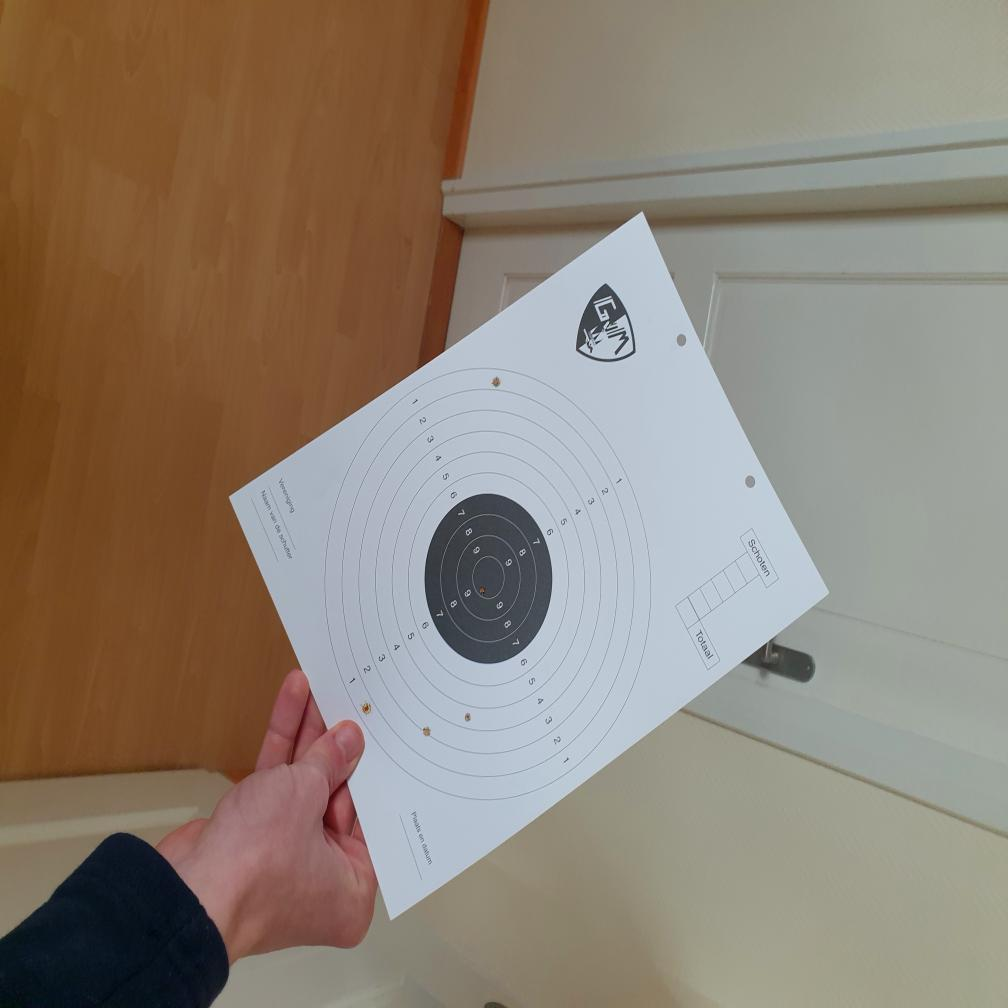1: (359, 700, 373, 717), (491, 375, 502, 390)
10: (479, 586, 486, 596)
3: (420, 725, 433, 739)
4: (464, 712, 472, 724)
Target: (323, 369, 653, 803)
black_contour: (424, 493, 552, 664)
